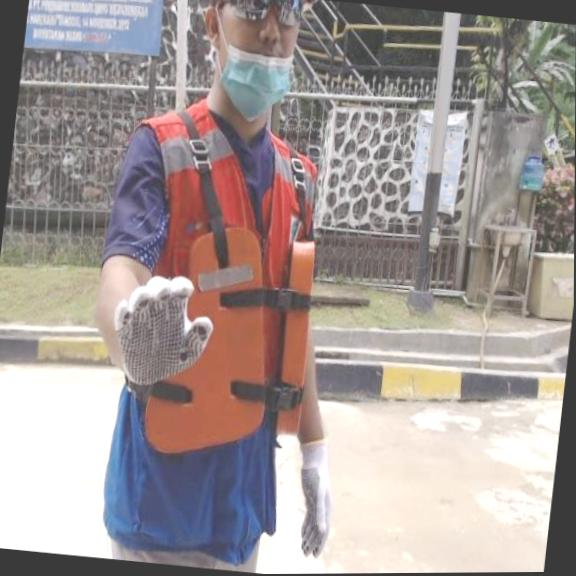safety_vest: (147, 234, 325, 457)
